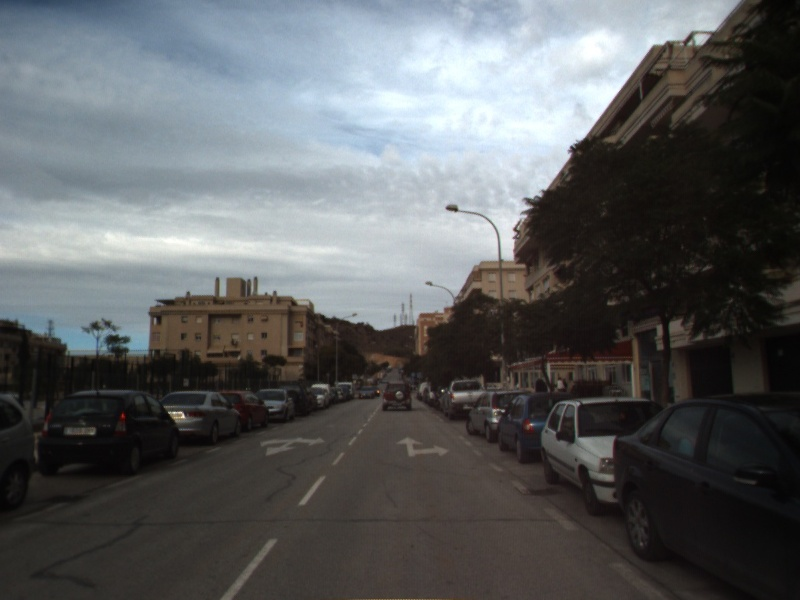STRAIGHT_RIGHT: (394, 434, 452, 459)
